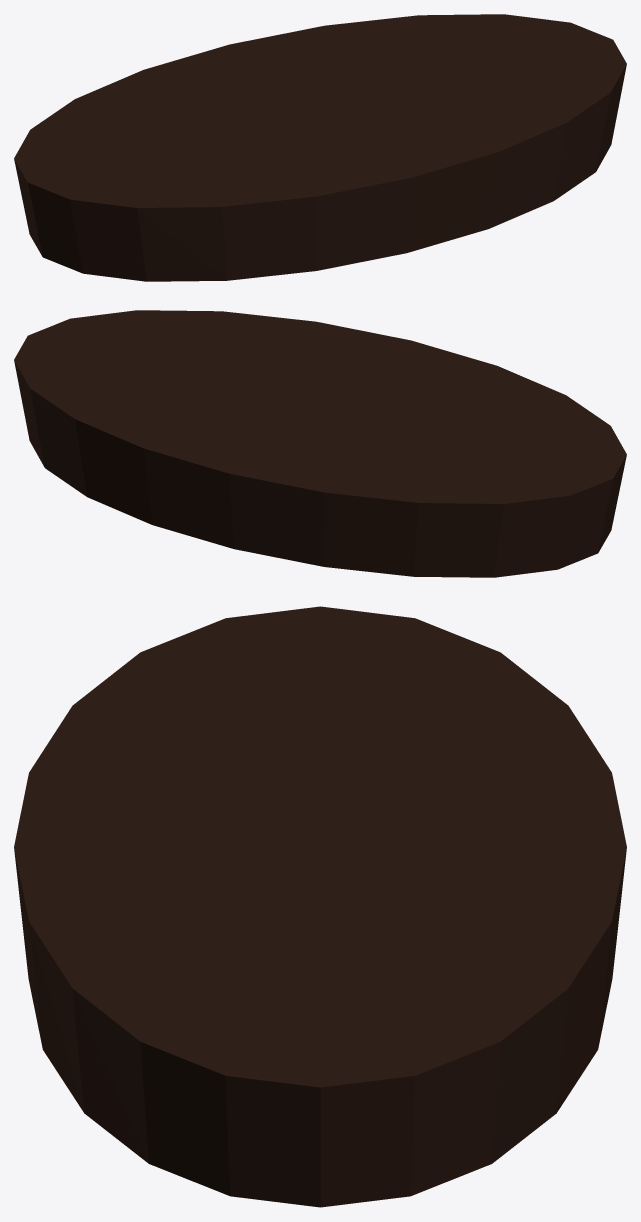
File: Guard_Belt.obj
3 renders of one model, top to bottom at view 1: azimuth 30°, elevation 25°; view 2: azimuth 150°, elevation 25°; view 3: azimuth 270°, elevation 25°, orthographic. The views are drawn at different scales.
Parts seen in each view (by area): view 1: Guard_Belt; view 2: Guard_Belt; view 3: Guard_Belt.
Boxes of the visible parts, left/top/right/bottom form: Guard_Belt: left=14, top=14, right=626, bottom=281; Guard_Belt: left=14, top=310, right=626, bottom=577; Guard_Belt: left=14, top=606, right=626, bottom=1207.
Bounding box in the file's own units: 0.78 × 0.1 × 0.42.
